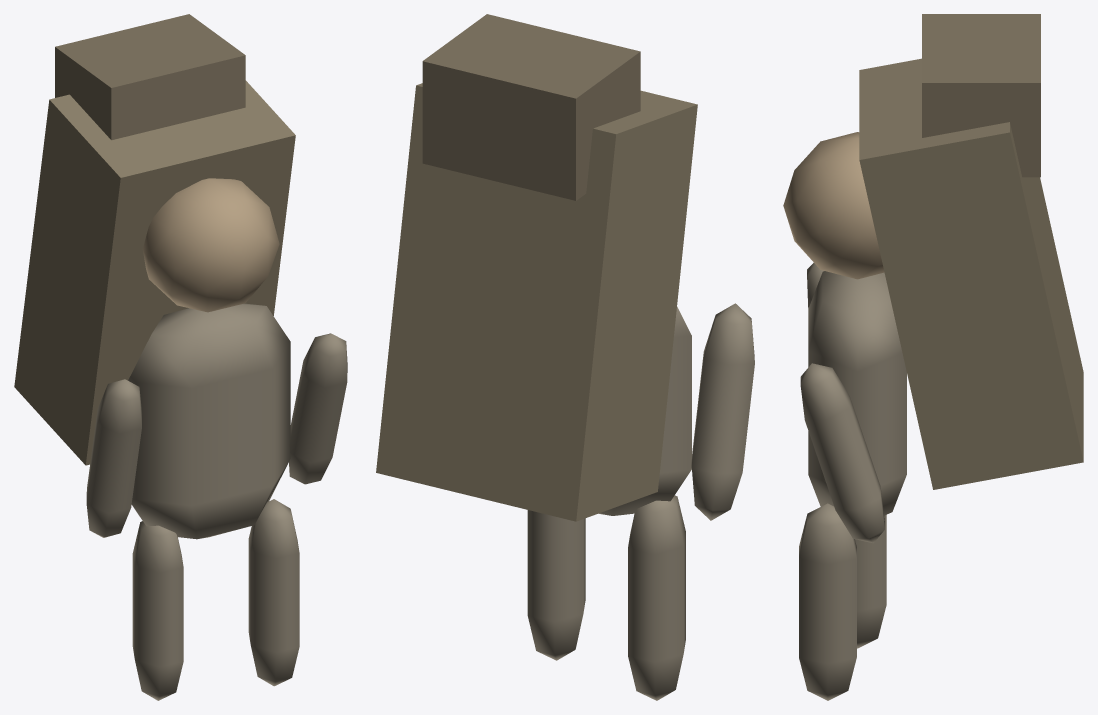
File: civilian2.glb
3 views of the same model, side by side, from view 1: azimuth 30°, elevation 25°; view 2: azimuth 150°, elevation 25°; view 3: azimuth 270°, elevation 25° (orthographic). The views are drawn at different scales.
Parts seen in each view (by area): view 1: civilian2; view 2: civilian2; view 3: civilian2.
Boxes of the visible parts, x1,y1,x2,y2 form: civilian2: (14, 14, 347, 700); civilian2: (376, 14, 754, 700); civilian2: (783, 14, 1083, 700).
Size of the model in its own units: 1.22 by 2.79 by 1.21.
